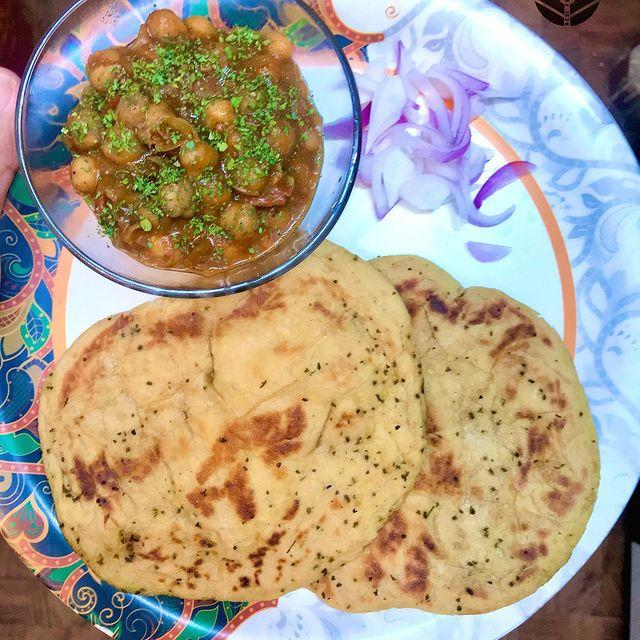Chole: (63, 8, 316, 266)
